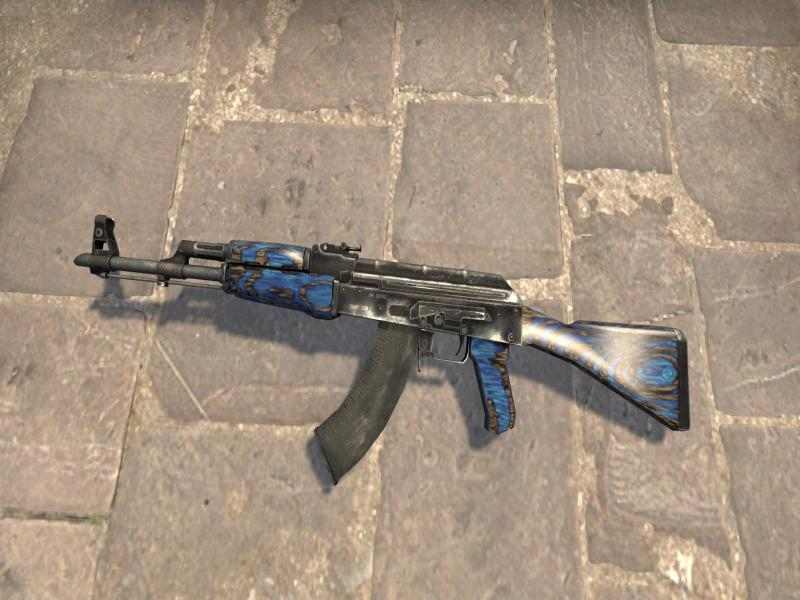AK47: (74, 216, 690, 475)
